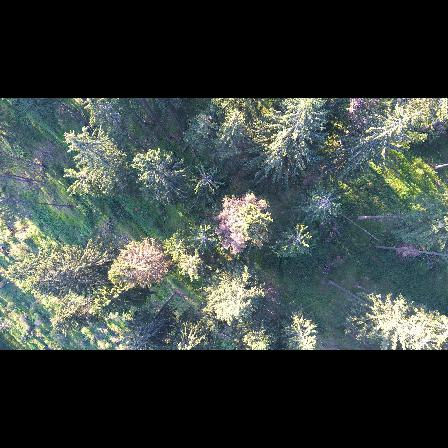Sick: (188, 155, 225, 194), (308, 185, 343, 217), (278, 224, 315, 252), (184, 223, 217, 252)
